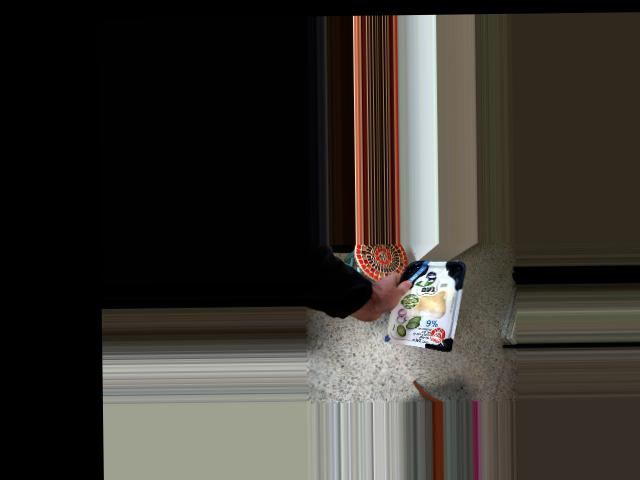cheese: (371, 275, 443, 343)
